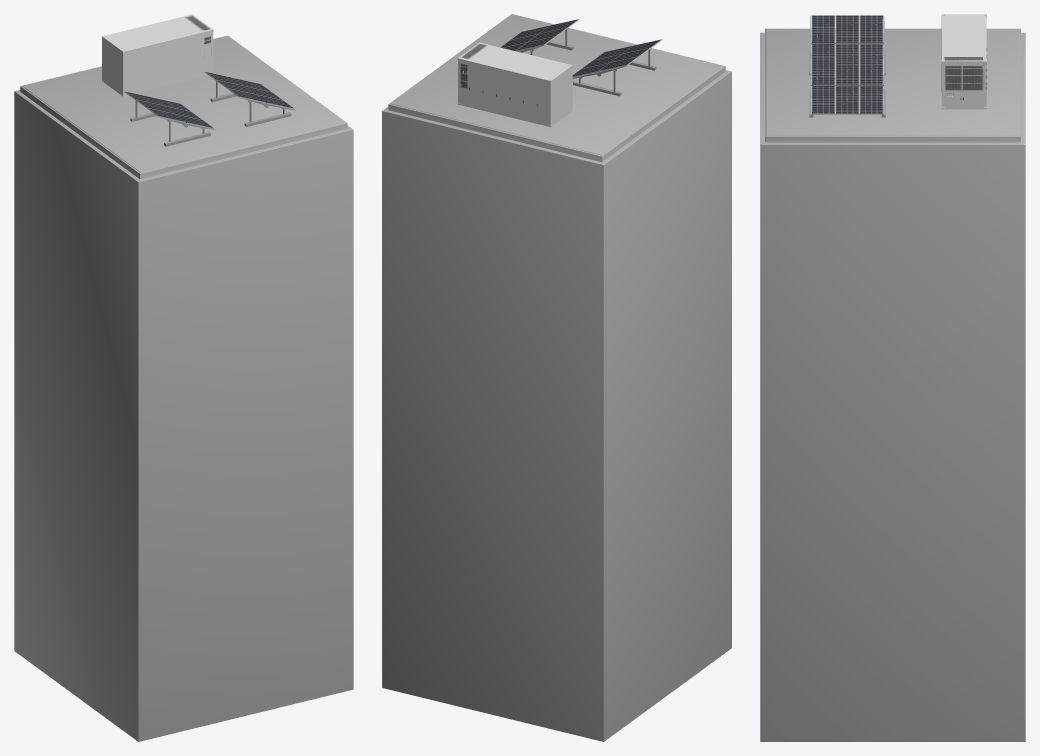
File: station_light.glb
3 renders of one model, left to right at view 1: azimuth 30°, elevation 25°; view 2: azimuth 150°, elevation 25°; view 3: azimuth 270°, elevation 25°, orthographic. The views are drawn at different scales.
Visible parts, largest first — view 1: 底座, 储能, 光伏面板.004, 光伏面板.001, 金属支架.001, 金属支架; view 2: 底座, 储能, 光伏面板.001, 光伏面板.004, 金属支架.001; view 3: 底座, 储能, 光伏面板.004, 光伏面板.001.
Boxes of the visible parts, x1,y1,x2,y2 form: 底座: (14,35,353,741); 储能: (102,14,213,96); 光伏面板.004: (205,71,294,109); 光伏面板.001: (124,91,214,128); 金属支架.001: (130,100,215,146); 金属支架: (204,72,295,126); 底座: (382,14,731,741); 储能: (457,42,572,127); 光伏面板.001: (572,39,661,77); 光伏面板.004: (500,19,578,51); 金属支架.001: (572,39,662,96); 底座: (760,28,1025,741); 储能: (941,14,986,109); 光伏面板.004: (811,57,883,114); 光伏面板.001: (811,15,883,57).
Bounding box in the file's own units: 2.17 × 5.89 × 2.17.
4 materials, 2 textured.
